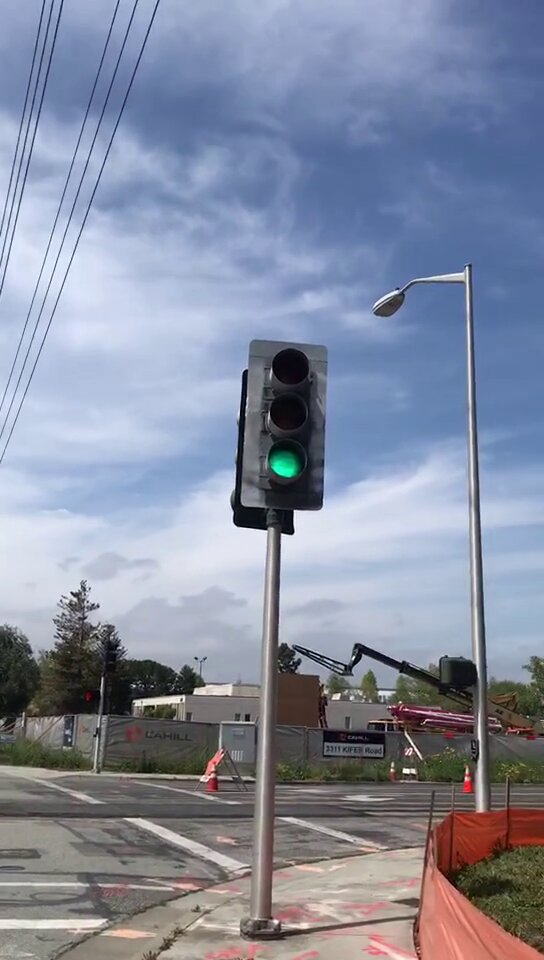green_light: (250, 346, 323, 506)
